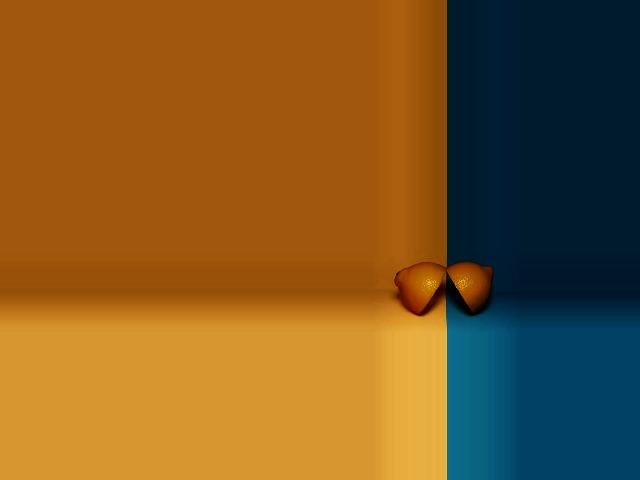lemon: (444, 259, 500, 317)
